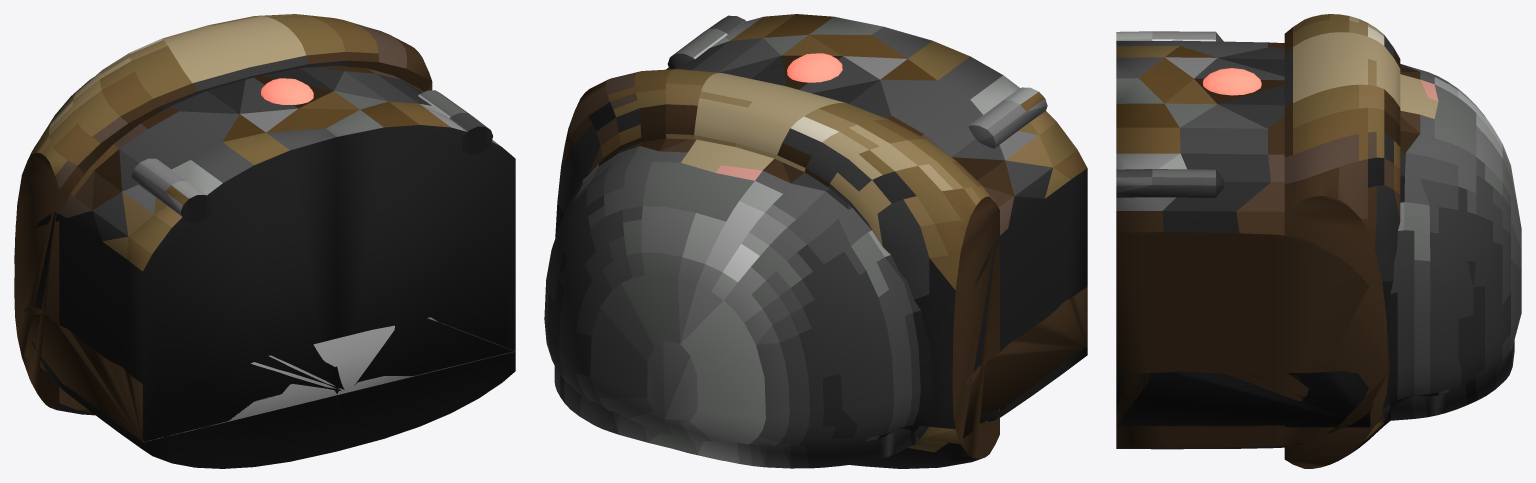
Rendered from tusk_boss_14.glb.
The picture shows the model from 3 angles, left to right: view 1: azimuth 30°, elevation 25°; view 2: azimuth 150°, elevation 25°; view 3: azimuth 270°, elevation 25°; orthographic projection. The views are drawn at different scales.
Parts seen in each view (by area): view 1: tusk_boss_14_plates; view 2: tusk_boss_14_plates; view 3: tusk_boss_14_plates.
Part boxes in pixels (<box>): tusk_boss_14_plates: <box>14,14,515,468</box>; tusk_boss_14_plates: <box>544,14,1087,468</box>; tusk_boss_14_plates: <box>1116,14,1521,468</box>.
Size of the model in its own units: 24 by 21.32 by 22.4.
